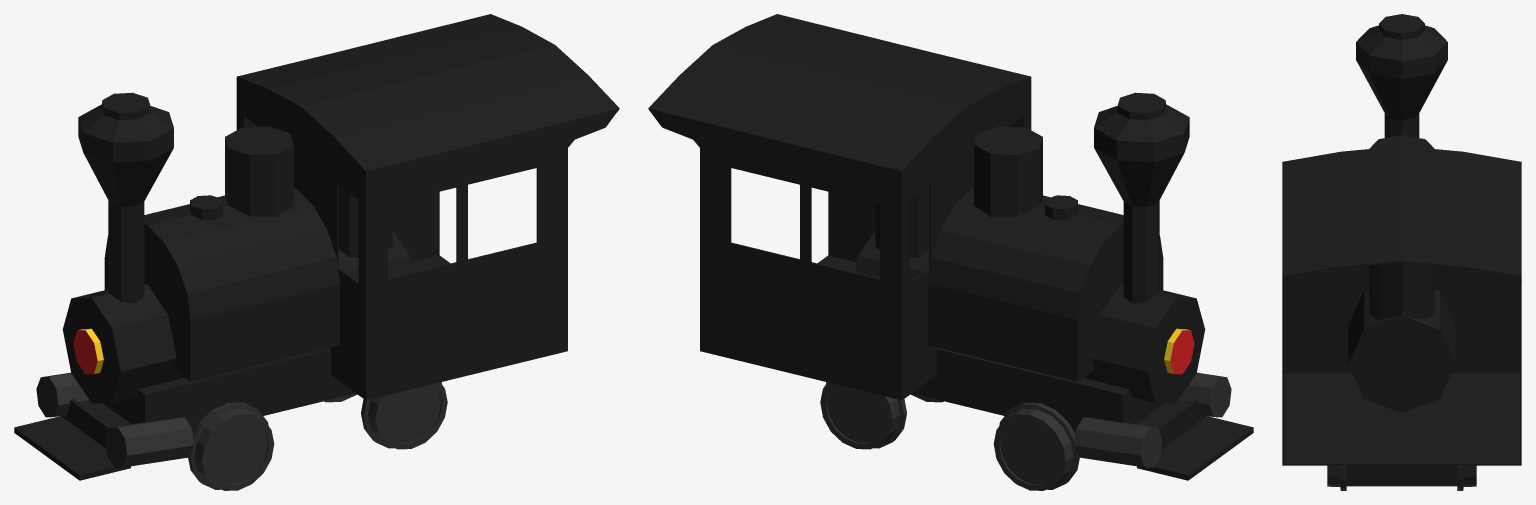
Rendered from Porter.fbx.
3 views of the same model, side by side, from view 1: azimuth 30°, elevation 25°; view 2: azimuth 150°, elevation 25°; view 3: azimuth 270°, elevation 25° (orthographic). The views are drawn at different scales.
Parts seen in each view (by area): view 1: Cab, Boiler, FBTransform.001, FBTransform.004; view 2: Cab, Boiler, FBTransform.001, FBTransform.004; view 3: Cab, Boiler, FBTransform.004.
Boxes of the visible parts, x1,y1,x2,y2 form: Cab: (236, 14, 619, 400); Boiler: (14, 92, 412, 480); FBTransform.001: (188, 402, 274, 490); FBTransform.004: (324, 382, 447, 449); Cab: (648, 14, 1031, 400); Boiler: (855, 92, 1253, 480); FBTransform.001: (993, 402, 1079, 490); FBTransform.004: (820, 382, 943, 449); Cab: (1282, 146, 1521, 465); Boiler: (1324, 14, 1479, 486); FBTransform.004: (1327, 465, 1476, 490).
Bounding box in the file's own units: 5.96 × 4.26 × 2.63.
1 material, 1 textured.
